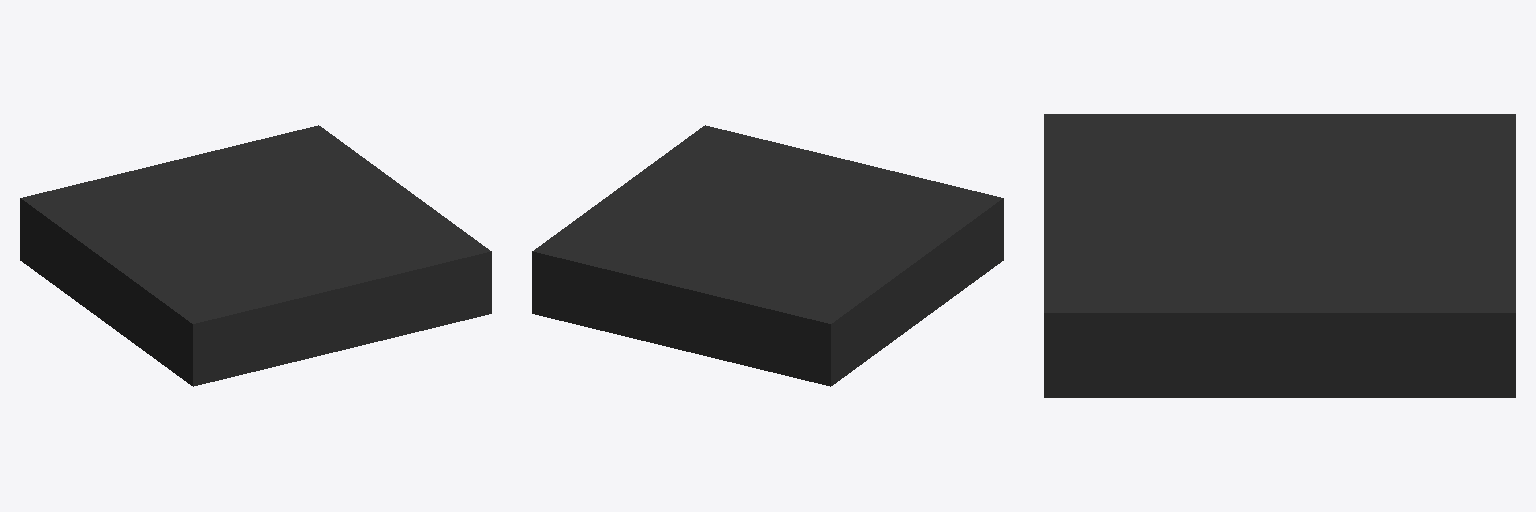
URDF robot description (wall):
<robot name="wall">
  <link name="baseLink">
   
    <inertial>
      <origin rpy="0 0 0" xyz="0 0 0" />
       <mass value="10" />
       <inertia ixx="0" ixy="0" ixz="0" iyy="0" iyz="0" izz="0" />
    </inertial>
    <visual>
      <origin rpy="0 0 0" xyz="0 0 0" />
      <geometry>
			  <box size="1 1 0.2" />
      </geometry>
       <material name="grey">
        <color rgba="0.24 0.24 0.24 1" />
      </material>
    </visual>
    <collision>
      <origin rpy="0 0 0" xyz="0 0 0" />
      <geometry>
	 	      <box size="1 1 0.2" />
      </geometry>
    </collision>
  </link>
</robot>

--- What the picture shows (computed from the rendered views, not written in the file) ---
3 views of the same robot in one strip: view 1: azimuth 30°, elevation 25°; view 2: azimuth 150°, elevation 25°; view 3: azimuth 270°, elevation 25° (orthographic).
Robot: wall — 1 links, 0 joints (none); root link baseLink; default pose: all joints at 0.
Links seen in each view (by area): view 1: baseLink; view 2: baseLink; view 3: baseLink.
Link boxes in pixels (bbox=[...]): baseLink: bbox=[20, 125, 491, 386]; baseLink: bbox=[532, 125, 1003, 386]; baseLink: bbox=[1044, 114, 1515, 397].
Size in the robot's own frame: 1 by 1 by 0.2 metres.
Geometry: primitives only (box / cylinder / sphere), no mesh files.
